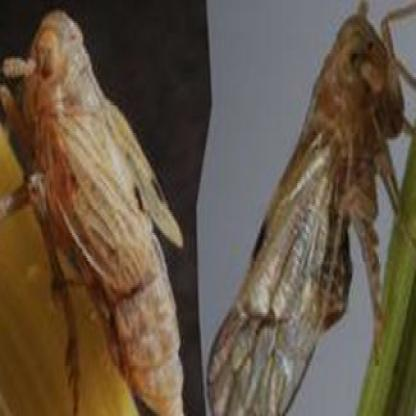brown-planthopper: (207, 6, 406, 416), (11, 6, 185, 416)
